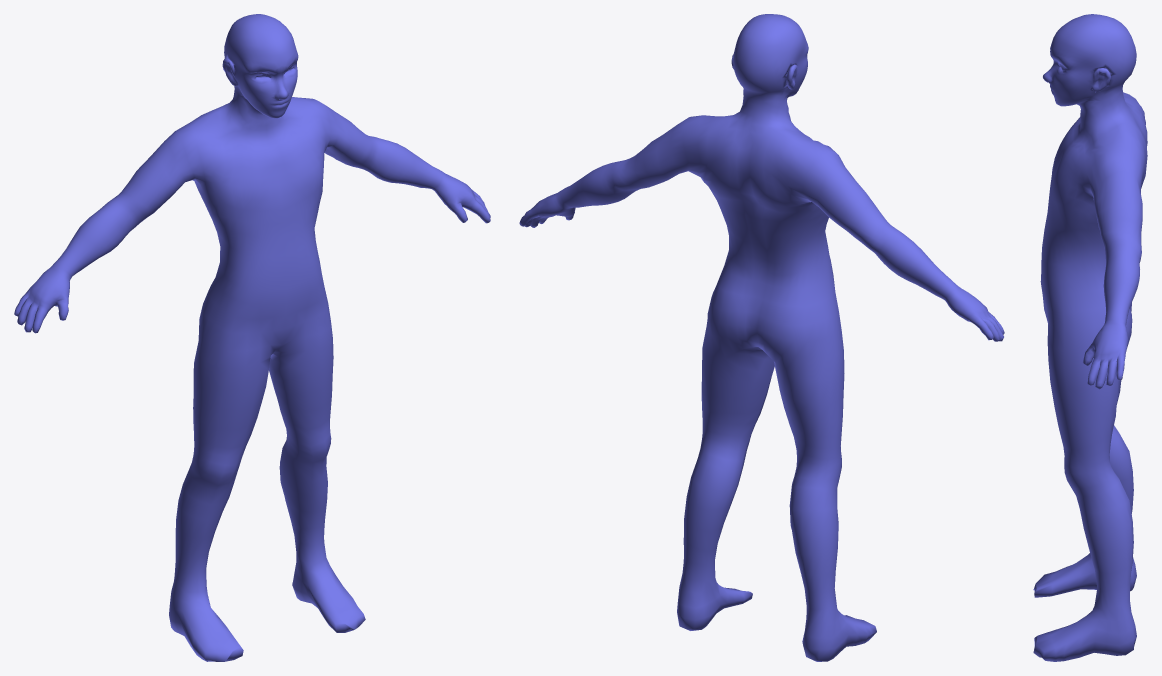
File: MaleChara1.6 (1).fbx
3 views of the same model, side by side, from view 1: azimuth 30°, elevation 25°; view 2: azimuth 150°, elevation 25°; view 3: azimuth 270°, elevation 25° (orthographic).
Visible parts, largest first — view 1: HahmoRetopo; view 2: HahmoRetopo; view 3: HahmoRetopo.
Part boxes in pixels (x1,y1,x2,y2): HahmoRetopo: (14,14,490,661); HahmoRetopo: (519,14,1004,661); HahmoRetopo: (1033,14,1147,661).
Bounding box in the file's own units: 1.5 × 1.86 × 0.3178.
